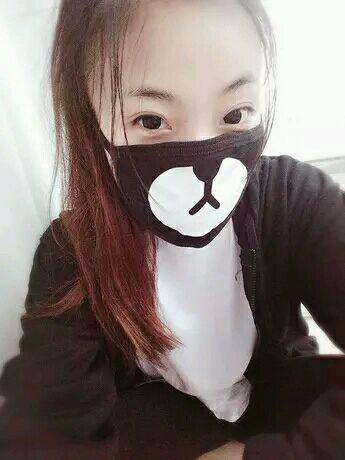OK: (102, 73, 268, 239)
